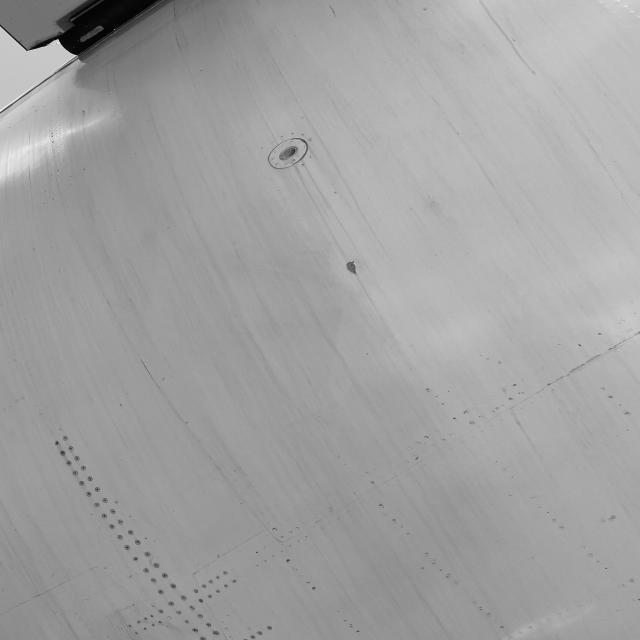crack: (134, 358, 163, 386), (344, 260, 363, 278)
